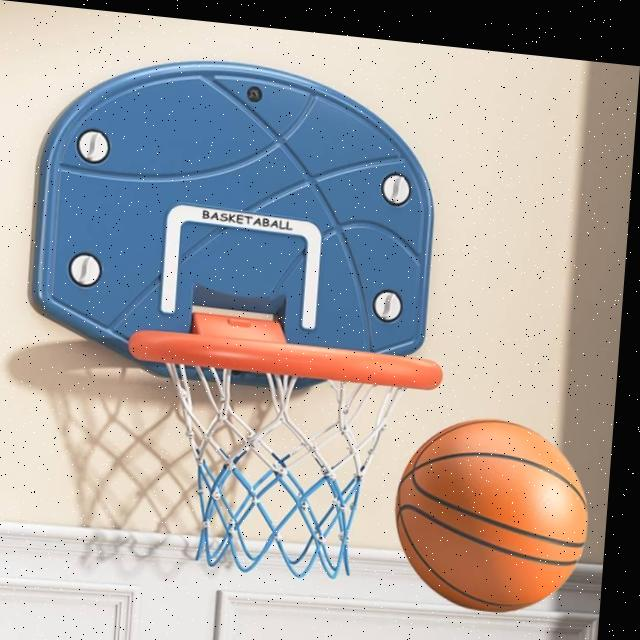basketball: (390, 409, 596, 622)
hoop: (114, 329, 443, 588)
